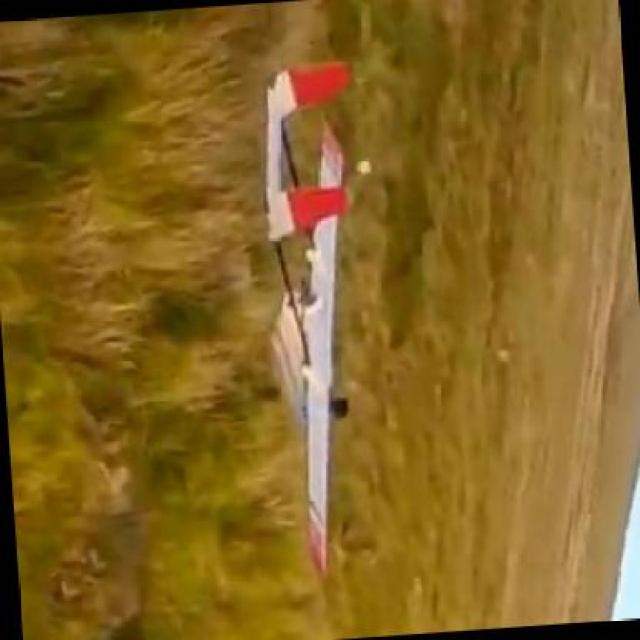iha: (282, 53, 342, 579)
